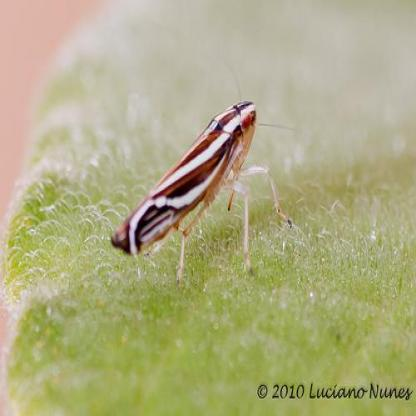Green-Leafhopper: (110, 84, 293, 278)
